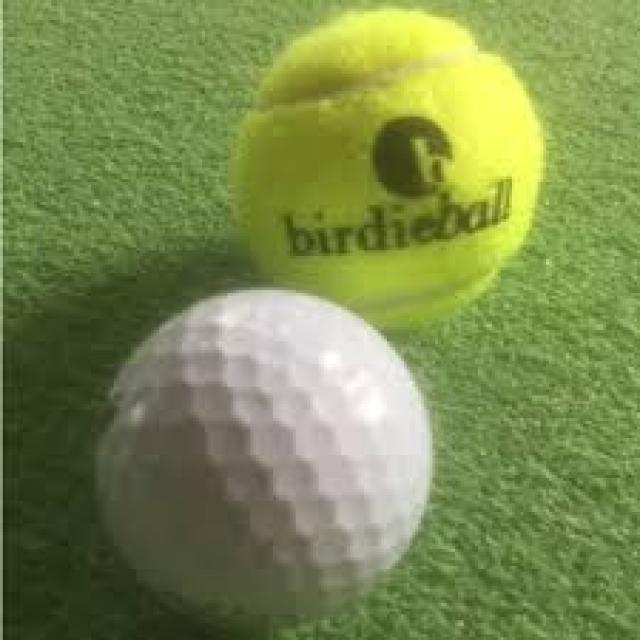tennis-ball: (233, 9, 549, 329)
